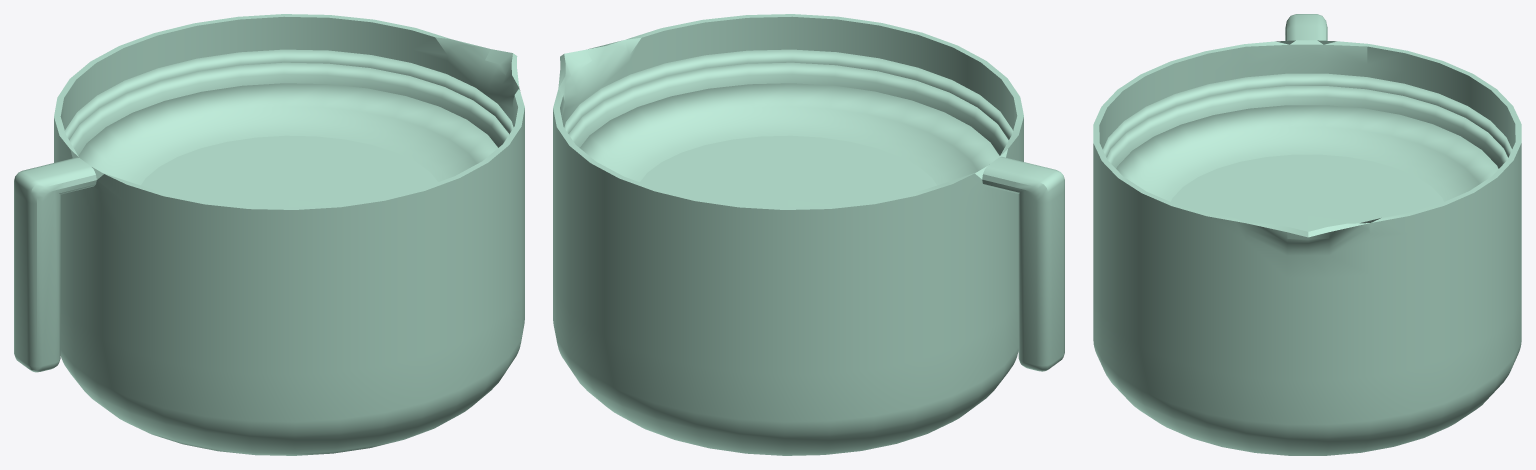
Rendered from Prefab_DoseurFull_Lily.fbx.
The picture shows the model from 3 angles, left to right: view 1: azimuth 30°, elevation 25°; view 2: azimuth 150°, elevation 25°; view 3: azimuth 270°, elevation 25°; orthographic projection. The views are drawn at different scales.
Parts seen in each view (by area): view 1: Cube; view 2: Cube; view 3: Cube.
Boxes of the visible parts, x1,y1,x2,y2 form: Cube: (14,14,524,455); Cube: (553,14,1064,455); Cube: (1093,14,1521,455).
Size of the model in its own units: 15 by 8 by 12.
